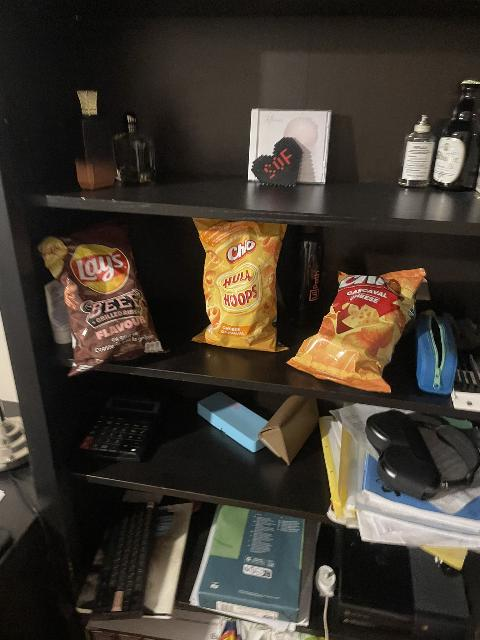Chio Cascaval 125g: (288, 262, 426, 394)
Chio Hula Hoops Cheese 70g: (188, 221, 289, 350)
Lays Beef Grilled Ribs 125g: (40, 221, 172, 371)
